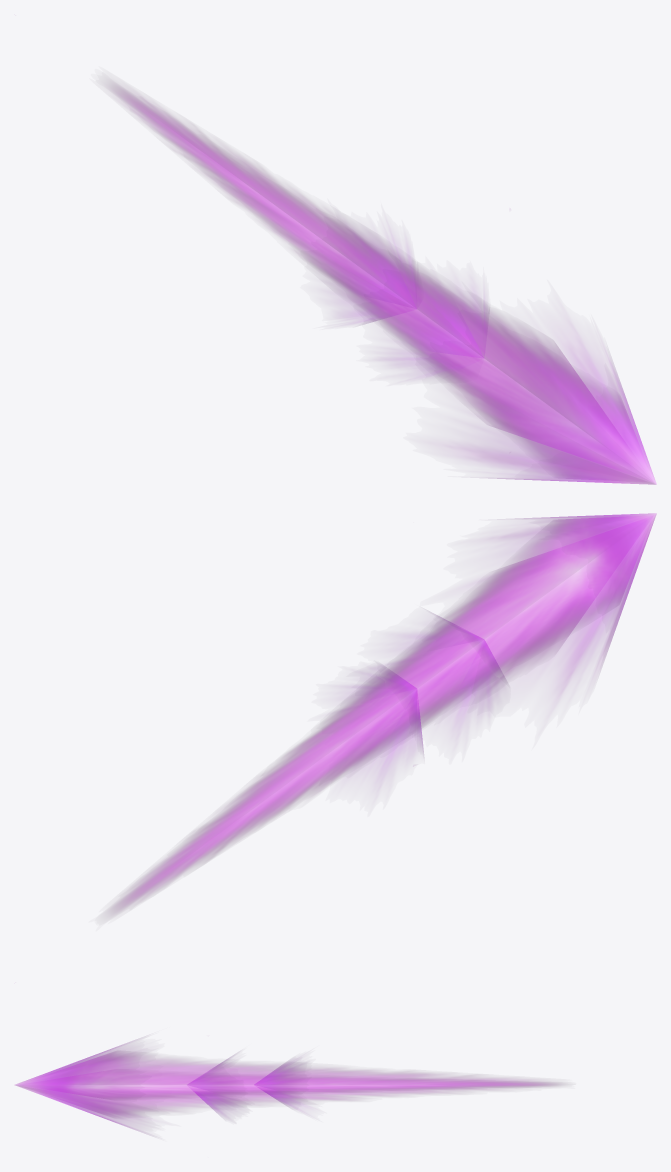
3 views of the same model, one above another, from view 1: azimuth 30°, elevation 25°; view 2: azimuth 150°, elevation 25°; view 3: azimuth 270°, elevation 25° (orthographic). The views are drawn at different scales.
Parts seen in each view (by area): view 1: layer_00_oe450U00; view 2: layer_00_oe450U00; view 3: layer_00_oe450U00.
Part boxes in pixels (<box>): layer_00_oe450U00: <box>107,81,656,484</box>; layer_00_oe450U00: <box>108,513,656,915</box>; layer_00_oe450U00: <box>14,1039,562,1133</box>.
Size of the model in its own units: 18.48 by 18.48 by 88.
Materials: 1 (1 with a texture image).
